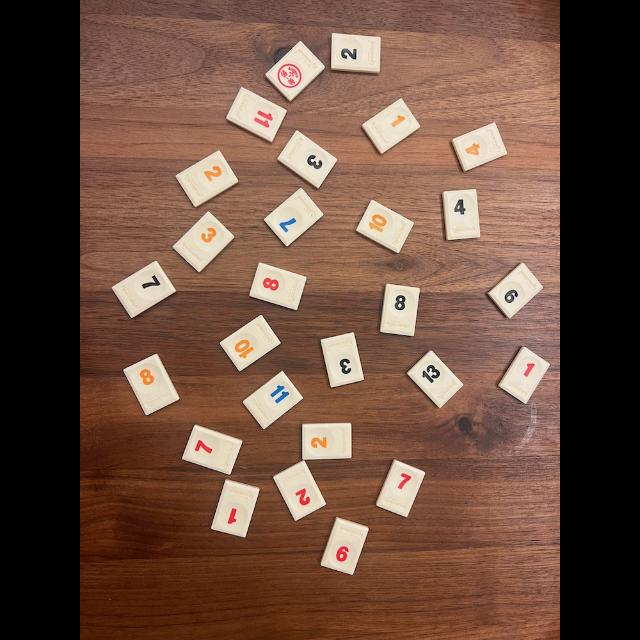black_13: (408, 350, 462, 408)
black_2: (332, 34, 381, 74)
black_3: (278, 131, 336, 188), (321, 333, 363, 388)
black_4: (442, 189, 479, 239)
black_7: (112, 261, 176, 318)
black_8: (380, 284, 420, 336)
black_9: (488, 262, 542, 318)
blue_11: (244, 371, 302, 429)
blue_7: (265, 189, 324, 246)
joker: (266, 41, 325, 101)
orange_1: (362, 99, 420, 154)
orange_10: (221, 315, 281, 371), (358, 200, 414, 252)
orange_2: (176, 151, 238, 206), (302, 422, 351, 460)
orange_3: (172, 211, 234, 272)
orange_4: (452, 122, 506, 171)
orange_8: (124, 354, 179, 415)
red_1: (499, 346, 550, 404), (211, 480, 260, 538)
red_11: (226, 88, 286, 142)
red_2: (274, 460, 326, 520)
red_7: (183, 425, 242, 475), (376, 460, 425, 518)
red_8: (249, 262, 306, 310)
red_9: (321, 518, 369, 575)
